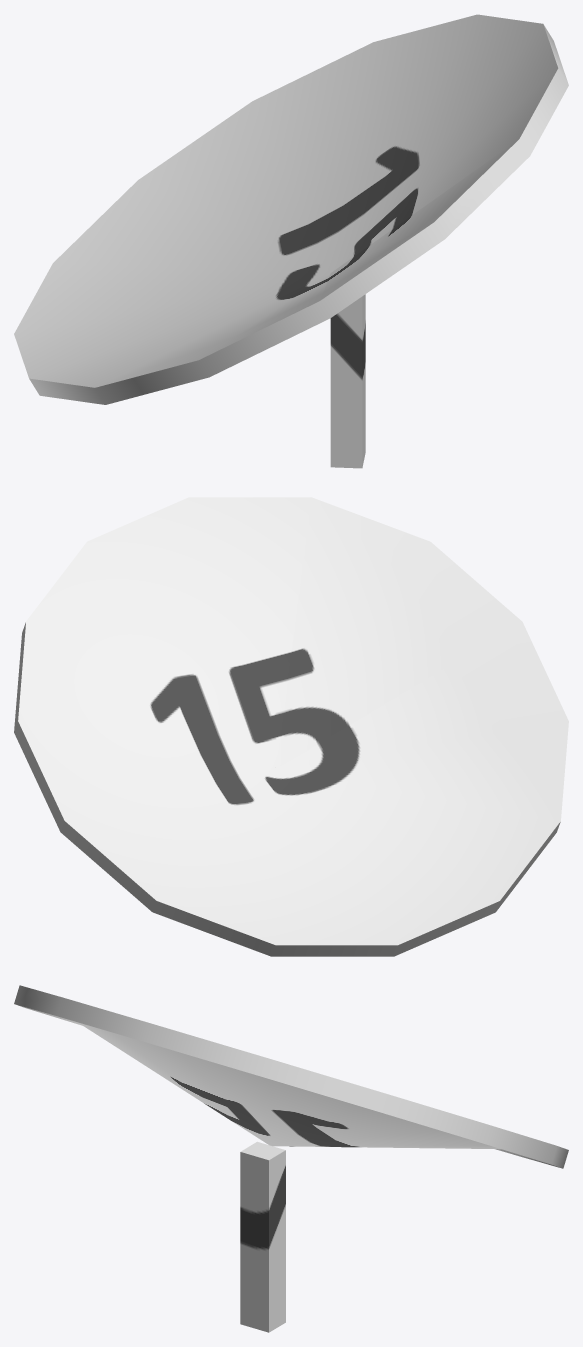
Rendered from antena.FBX.
The picture shows the model from 3 angles, top to bottom: view 1: azimuth 30°, elevation 25°; view 2: azimuth 150°, elevation 25°; view 3: azimuth 270°, elevation 25°; orthographic projection. The views are drawn at different scales.
Parts seen in each view (by area): view 1: Cylinder001; view 2: Cylinder001; view 3: Cylinder001.
Part boxes in pixels (x1,y1,x2,y2): Cylinder001: [14, 14, 568, 468]; Cylinder001: [14, 497, 568, 956]; Cylinder001: [14, 985, 568, 1332].
Size of the model in its own units: 0.449 by 0.3473 by 0.4764.
1 material, 1 textured.
